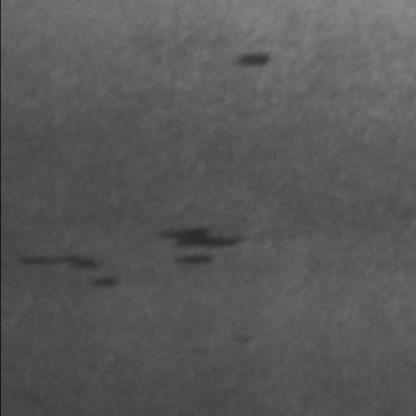inclusion: (10, 243, 123, 289), (150, 218, 243, 266), (221, 44, 274, 68)
